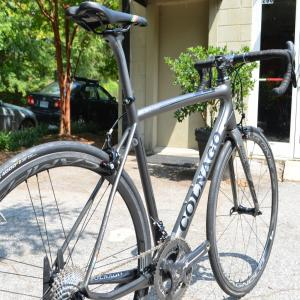Vehicle-registration-plate: (41, 101, 50, 109)
